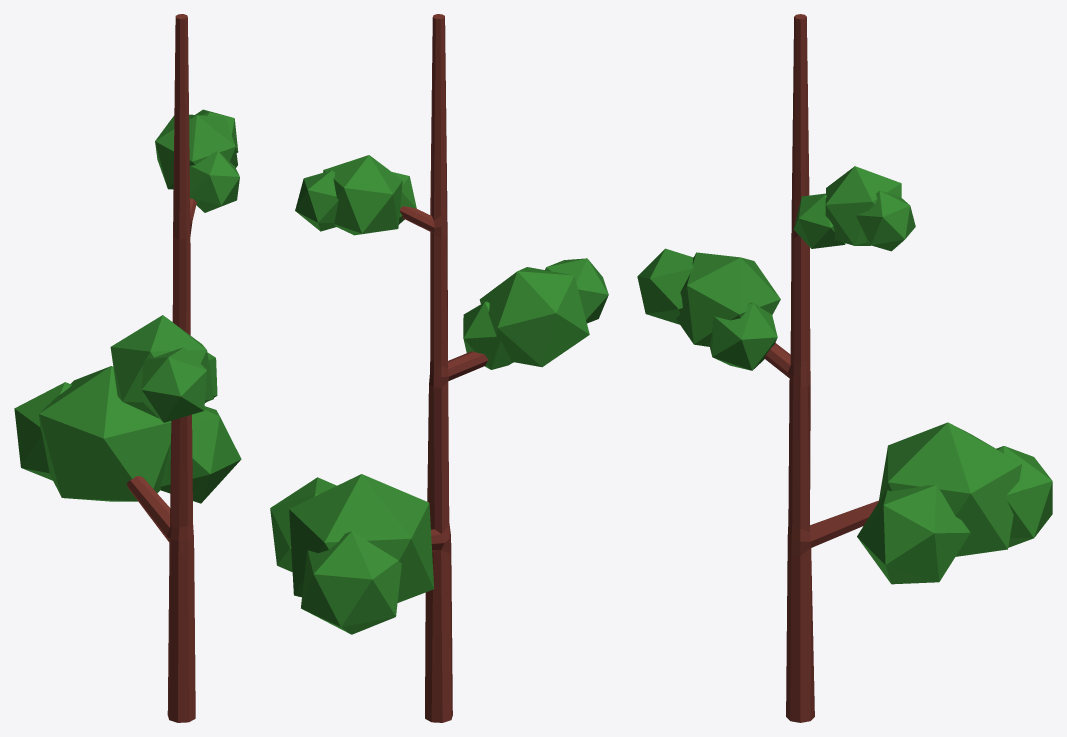
Rendered from Ancient_Tree_Bush.fbx.
3 views of the same model, side by side, from view 1: azimuth 30°, elevation 25°; view 2: azimuth 150°, elevation 25°; view 3: azimuth 270°, elevation 25° (orthographic).
Visible parts, largest first — view 1: Ancient Tree_Leaf; view 2: Ancient Tree_Leaf; view 3: Ancient Tree_Leaf.
Boxes of the visible parts, x1,y1,x2,y2 form: Ancient Tree_Leaf: (14,14,241,722); Ancient Tree_Leaf: (270,14,608,722); Ancient Tree_Leaf: (637,14,1052,722).
Size of the model in its own units: 2470 by 7965 by 4283.
